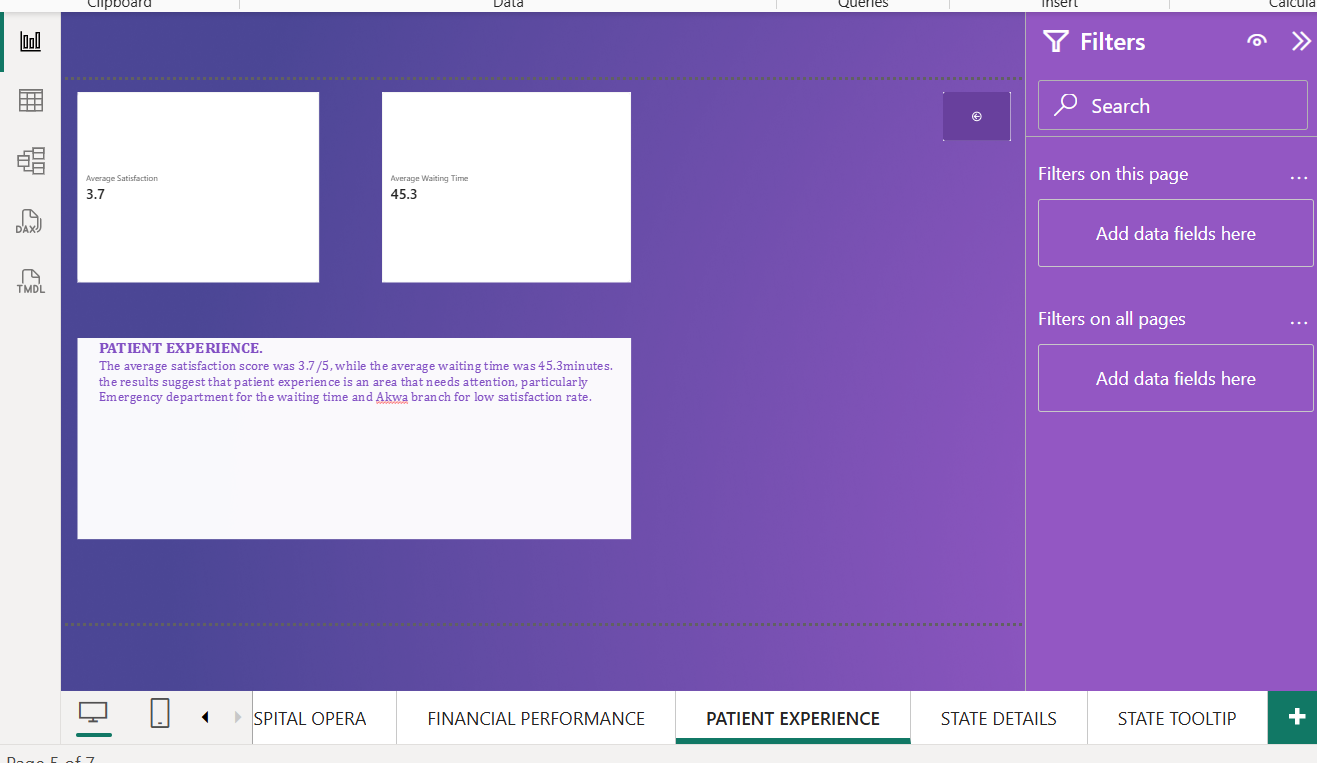

What the dashboard file says about the page in this screenshot:
{"tool":"powerbi","page":{"name":"PATIENT EXPERIENCE ","canvas":[1920,1080],"ordinal":4},"visuals":[{"type":"cardVisual","fields":{"Data":["Date_Table.Average Satisfaction"]},"box":[32.9,23.9,481,379.4],"z":0},{"type":"cardVisual","fields":{"Data":["Date_Table.Average Waiting Time"]},"box":[639.3,23.9,495.9,379.4],"z":2},{"type":"actionButton","box":[1757.5,22.5,135,97.5],"z":3},{"type":"textbox","box":[32.9,513.9,1102.4,400.3],"z":4}]}

Visuals, with their boxes on the page's 1920x1080 design canvas (x1, y1, x2, y2). These are canvas units, not pixel positions in the 1317x763 screenshot, which may show the page scaled, cropped or inside an application window:
cardVisual - Date_Table.Average Satisfaction: 33:24:514:403
cardVisual - Date_Table.Average Waiting Time: 639:24:1135:403
actionButton: 1758:22:1892:120
textbox: 33:514:1135:914
